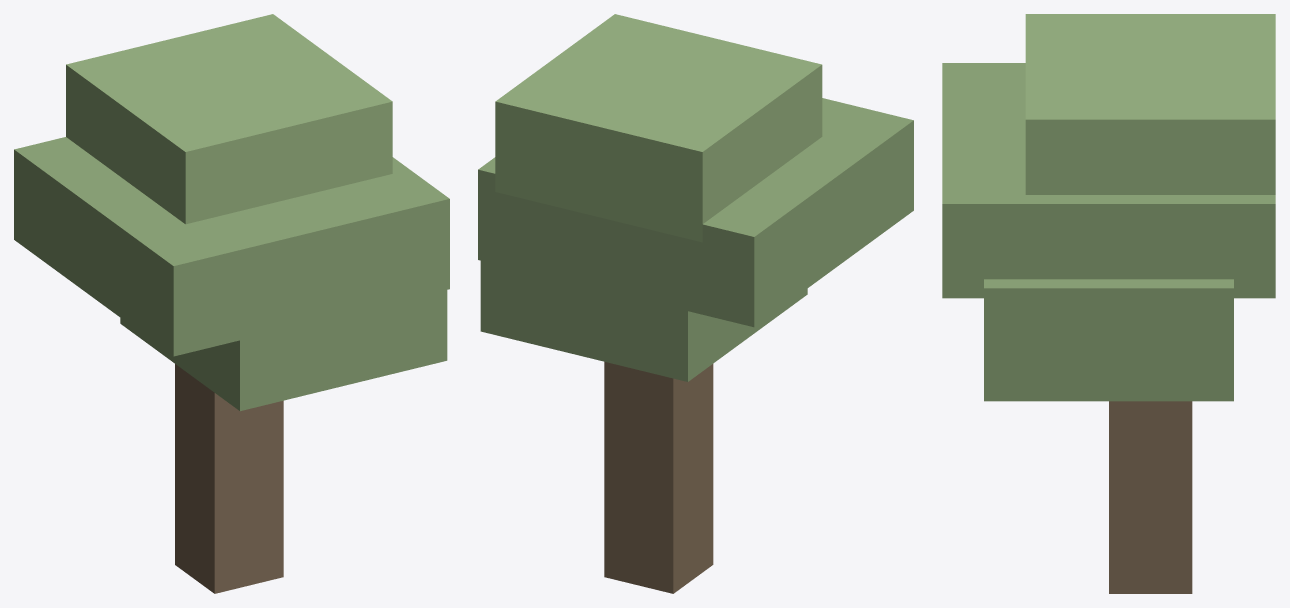
The model's file is manzano_silvestre_05.glb.
3 views of the same model, side by side, from view 1: azimuth 30°, elevation 25°; view 2: azimuth 150°, elevation 25°; view 3: azimuth 270°, elevation 25° (orthographic). The views are drawn at different scales.
Parts seen in each view (by area): view 1: manzano_silvestre_05; view 2: manzano_silvestre_05; view 3: manzano_silvestre_05.
Boxes of the visible parts, x1,y1,x2,y2 form: manzano_silvestre_05: (14,14,449,593); manzano_silvestre_05: (478,14,913,593); manzano_silvestre_05: (942,14,1275,593).
Bounding box in the file's own units: 1.7 × 2.7 × 1.6.
